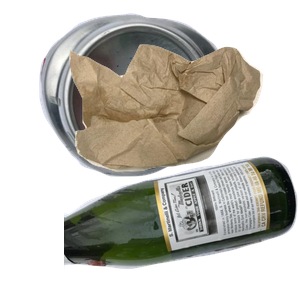glass: (64, 154, 300, 300)
metal: (37, 11, 261, 180)
plastic: (84, 191, 242, 300)
trash: (67, 42, 300, 206)
